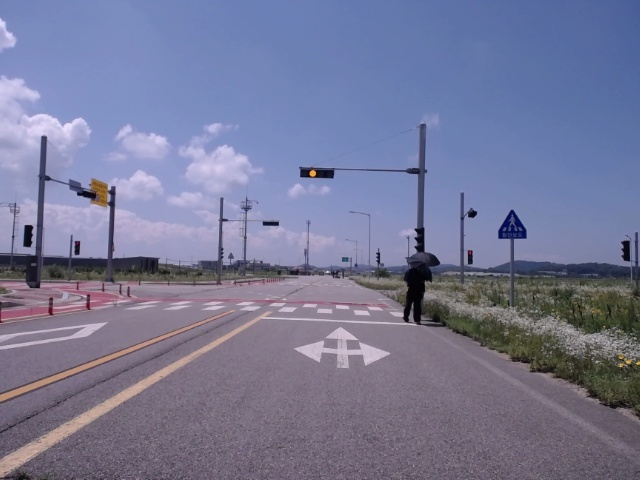orange_4: (301, 169, 334, 177)
